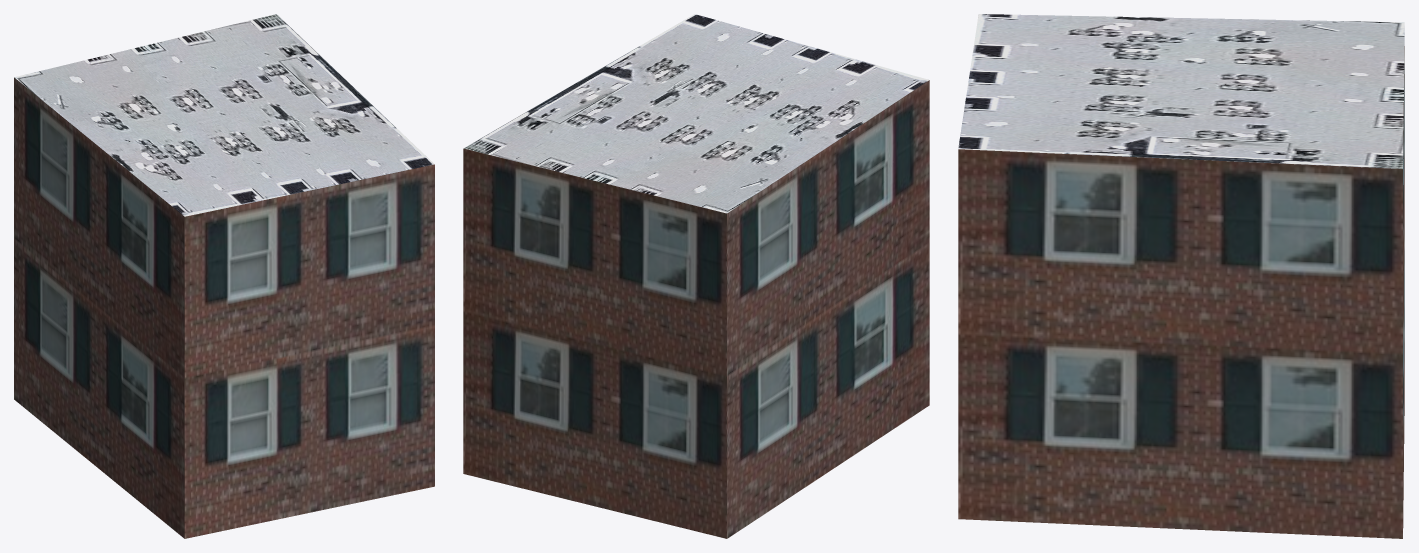
File: ResTex__2650.fbx
3 views of the same model, side by side, from view 1: azimuth 30°, elevation 25°; view 2: azimuth 150°, elevation 25°; view 3: azimuth 270°, elevation 25° (orthographic). The views are drawn at different scales.
Visible parts, largest first — view 1: CityEngineMaterial_14_m, CityEngineMaterial_8_m; view 2: CityEngineMaterial_14_m, CityEngineMaterial_8_m; view 3: CityEngineMaterial_14_m, CityEngineMaterial_8_m.
Part boxes in pixels (bbox=[...]): CityEngineMaterial_14_m: bbox=[14, 77, 434, 538]; CityEngineMaterial_8_m: bbox=[14, 14, 434, 216]; CityEngineMaterial_14_m: bbox=[463, 80, 929, 538]; CityEngineMaterial_8_m: bbox=[463, 14, 928, 213]; CityEngineMaterial_14_m: bbox=[958, 46, 1404, 538]; CityEngineMaterial_8_m: bbox=[958, 14, 1404, 168].
Size of the model in its own units: 5.39 by 6 by 6.56.
2 materials, 2 textured.
